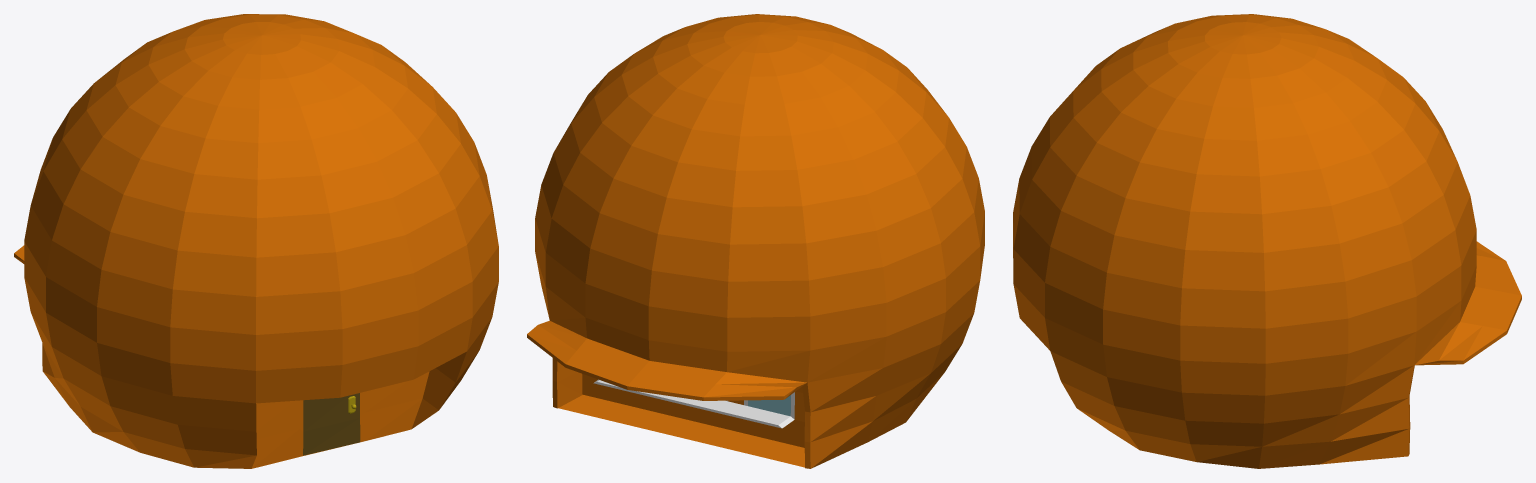
The model's file is SM_OrangeJulep.fbx.
3 renders of one model, left to right at view 1: azimuth 30°, elevation 25°; view 2: azimuth 150°, elevation 25°; view 3: azimuth 270°, elevation 25°, orthographic. The views are drawn at different scales.
Parts seen in each view (by area): view 1: SM_OrangeJulep_UV_DONE; view 2: SM_OrangeJulep_UV_DONE; view 3: SM_OrangeJulep_UV_DONE.
Boxes of the visible parts, bbox=[...] form: SM_OrangeJulep_UV_DONE: bbox=[14, 14, 498, 468]; SM_OrangeJulep_UV_DONE: bbox=[527, 14, 984, 468]; SM_OrangeJulep_UV_DONE: bbox=[1013, 14, 1521, 468].
Bounding box in the file's own units: 5.76 × 4.87 × 6.29.
